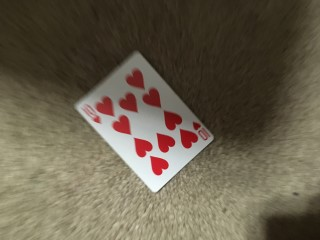TenOfHearts: (74, 51, 214, 191)
